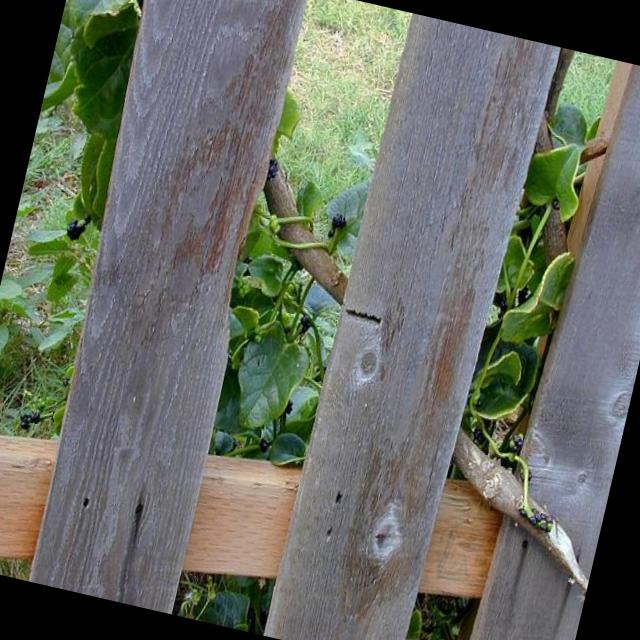Medicinal-Basale: (472, 128, 596, 430), (32, 0, 155, 198), (216, 266, 324, 450)
